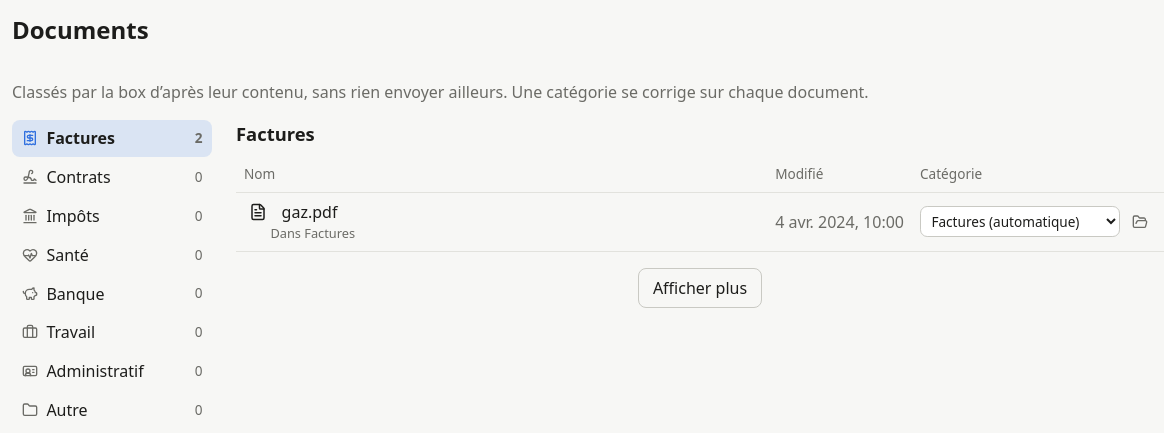
Scenario: Documents › loads the next page from the cursor
The image size is (1164, 433).
Step 1. Click the button "Afficher plus" → coordinates (700, 288), box [638,268,762,308]
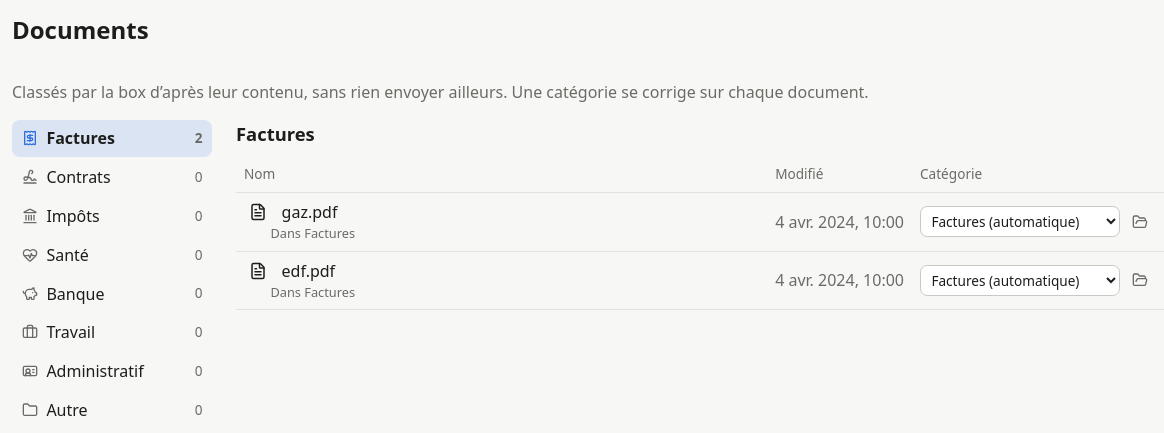
Check: the button "gaz.pdf" is shown, box [282,200,337,224]
Check: the button "edf.pdf" is shown, box [282,259,335,283]
Check: the button "Afficher plus" is gone
